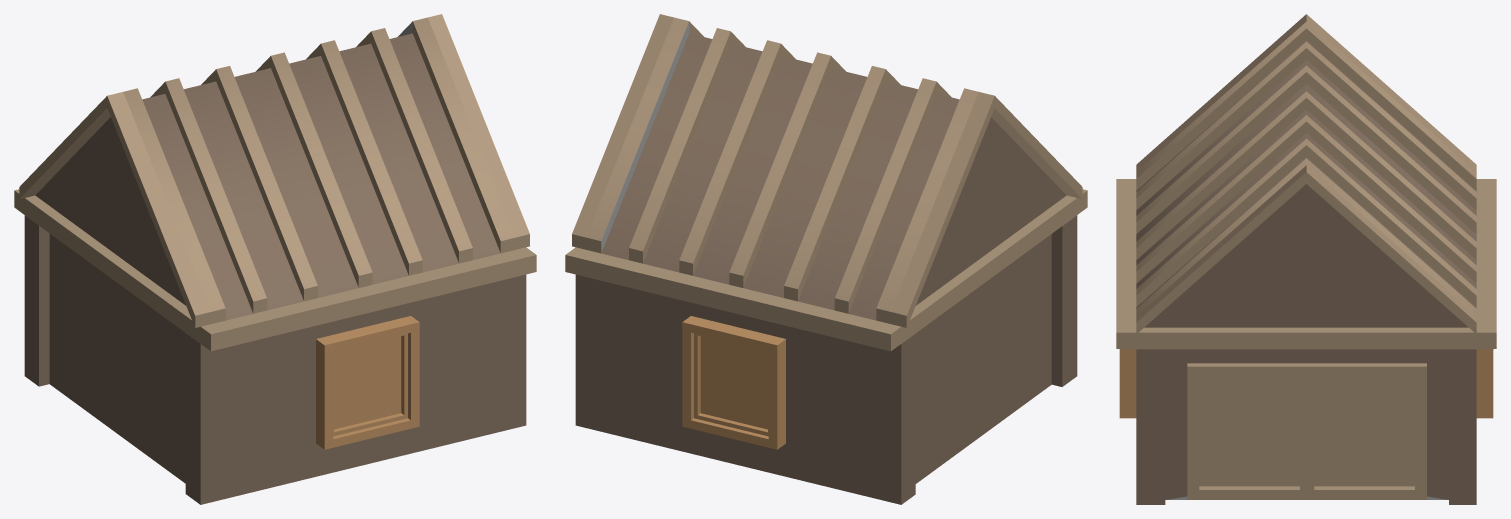
File: house2.fbx
The picture shows the model from 3 angles, left to right: view 1: azimuth 30°, elevation 25°; view 2: azimuth 150°, elevation 25°; view 3: azimuth 270°, elevation 25°; orthographic projection. The views are drawn at different scales.
Visible parts, largest first — view 1: pCube1; view 2: pCube1; view 3: pCube1.
Part boxes in pixels (x1,y1,x2,y2): pCube1: (14,14,536,504); pCube1: (565,14,1087,504); pCube1: (1116,14,1496,504).
Size of the model in its own units: 48.04 by 47.47 by 48.88.
